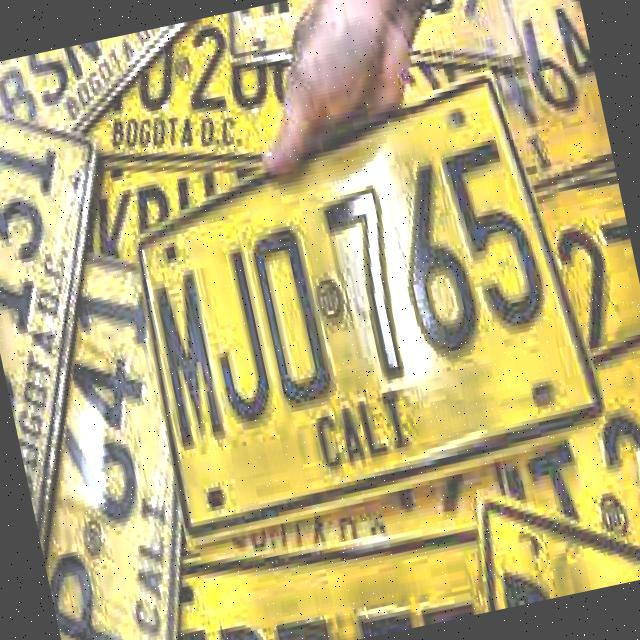5: (433, 128, 559, 350)
6: (378, 158, 486, 366)
7: (320, 182, 422, 384)
J: (190, 240, 283, 432)
M: (147, 274, 230, 454)
O: (242, 215, 336, 413)
